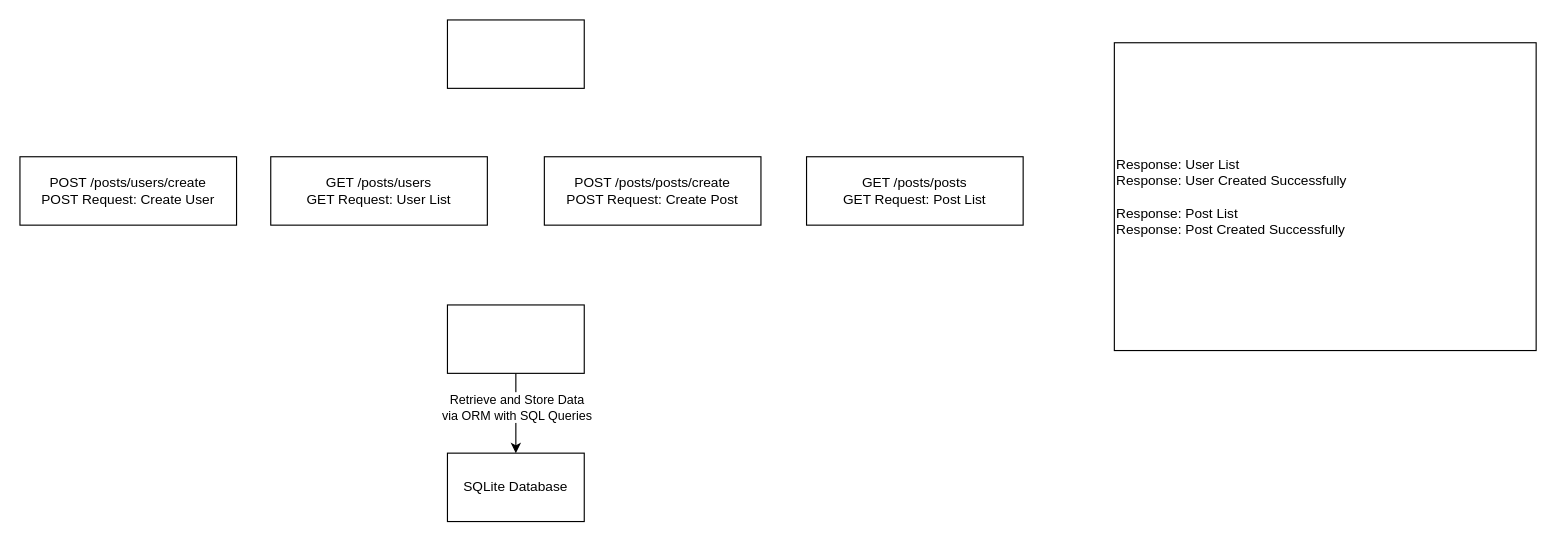
The diagram is 1556 pixels wide and 542 high, and some of its shapes have lost their labels. Each missing label, with the centre of its shape:
Django Server: [515,338]
Postman/Client: [515,53]
